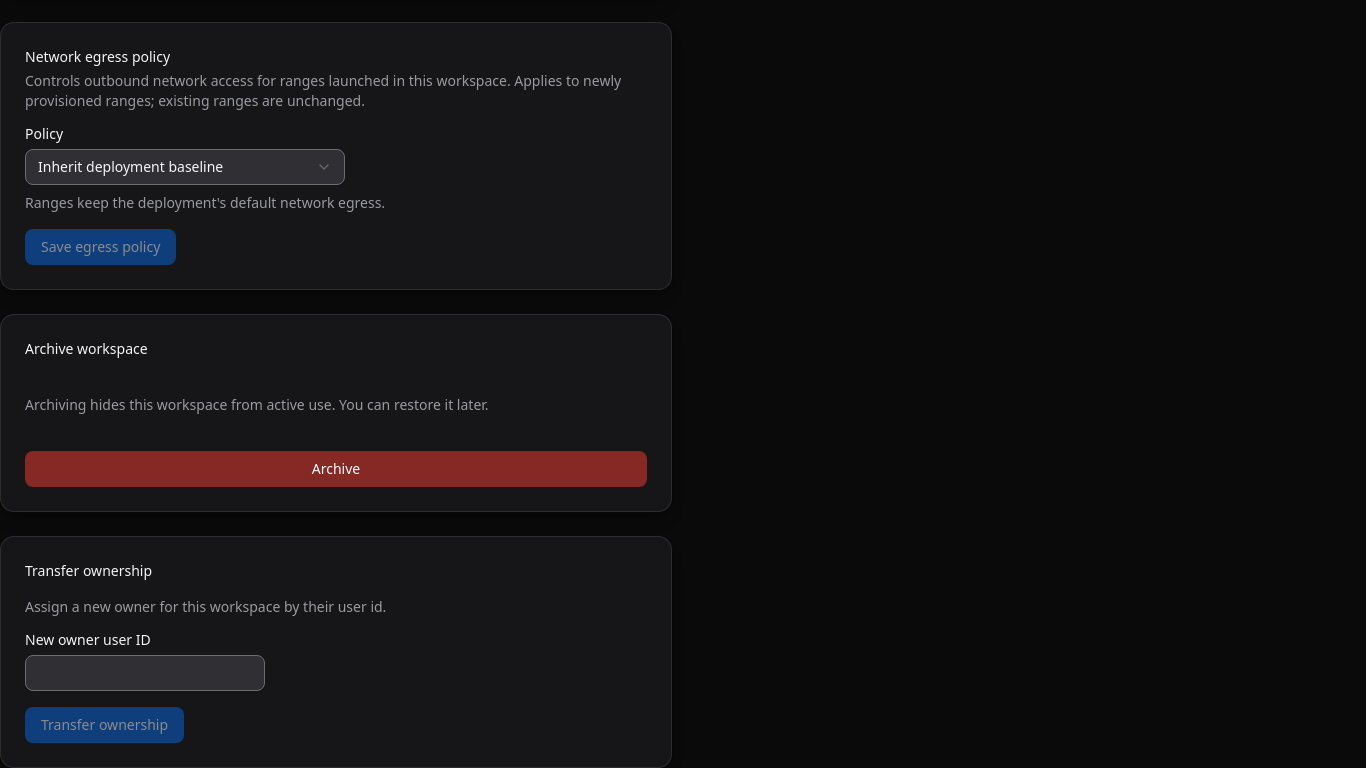
WorkspaceDetailPage › transfers ownership through the API
The width and height of the screenshot is (1366, 768).
(page scrolled)
Type "42" into the number field labelled "New owner user ID" at x=145, y=673, box [25, 655, 265, 691]
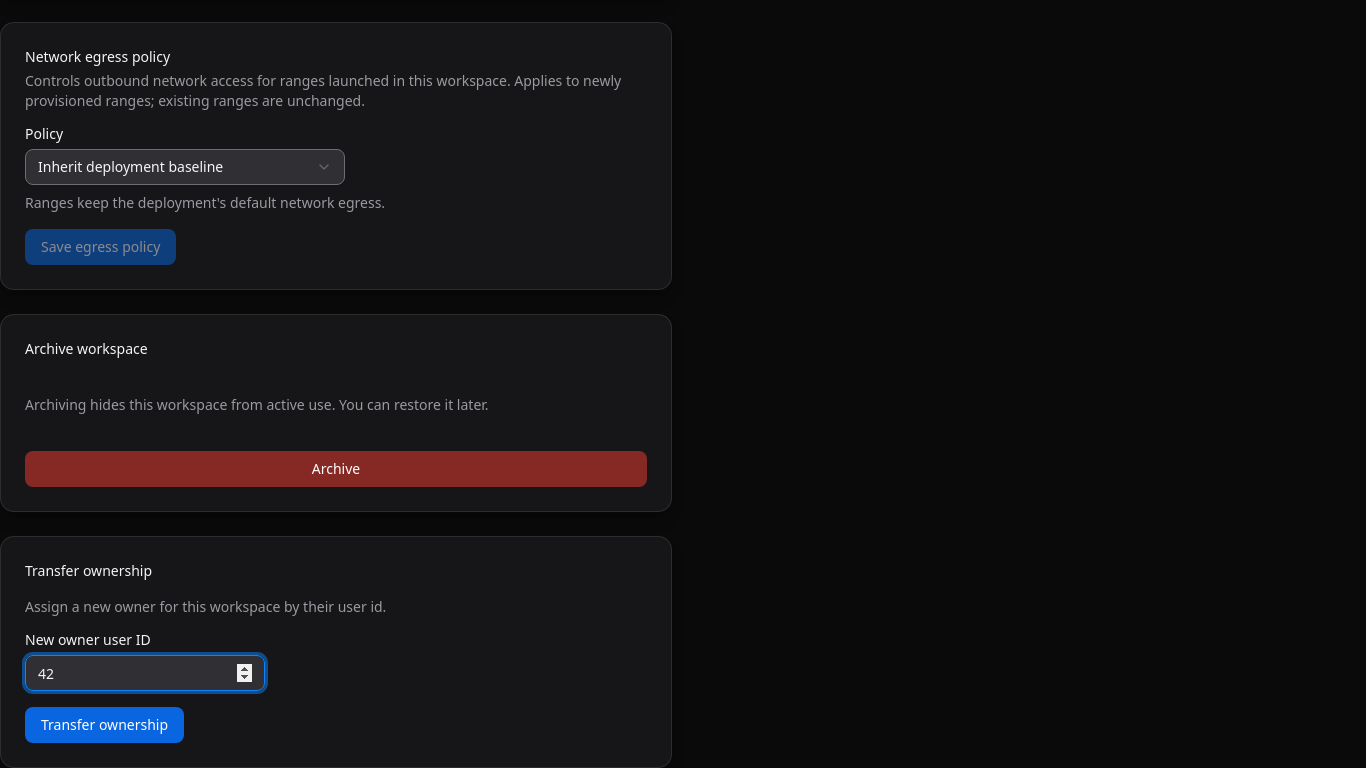
Click the button "Transfer ownership" at x=104, y=725, box [25, 707, 184, 743]
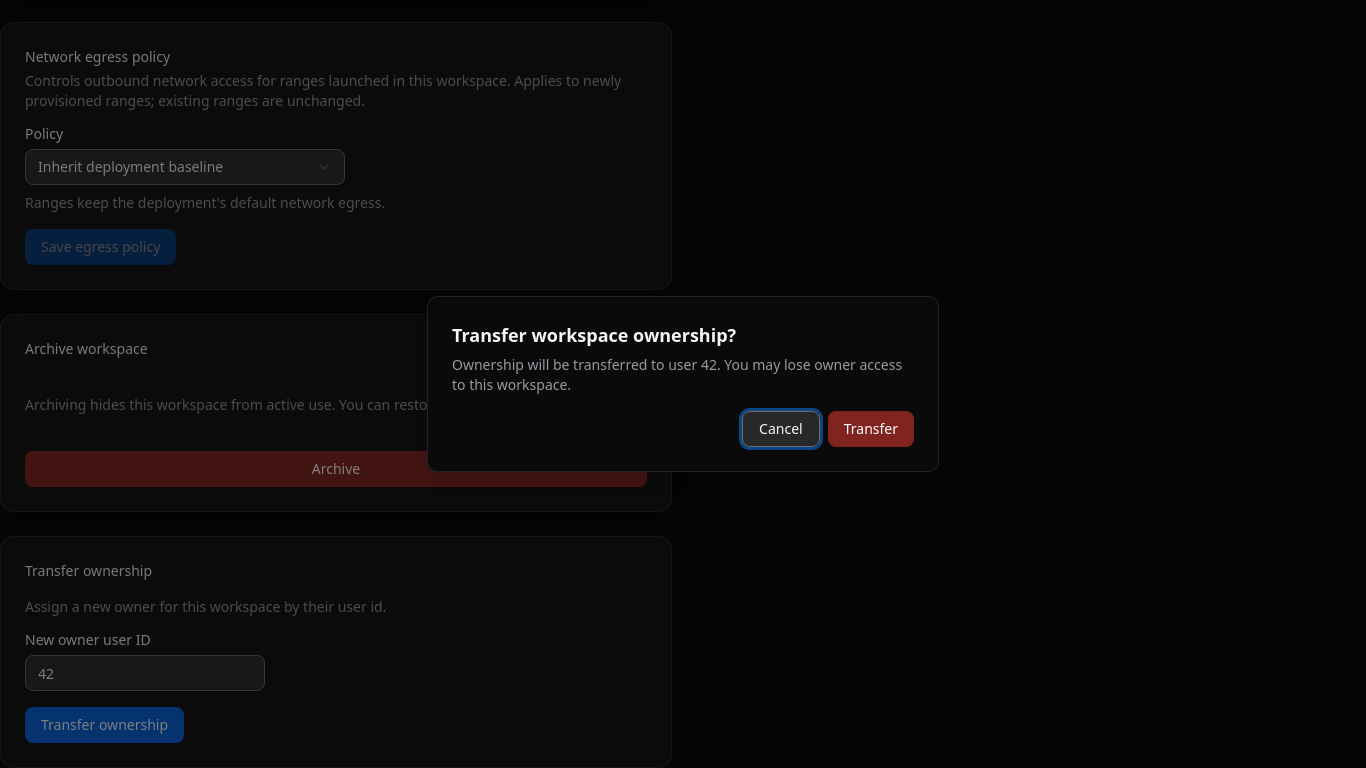
Click the button "Transfer" at x=871, y=429, box [828, 411, 914, 447]
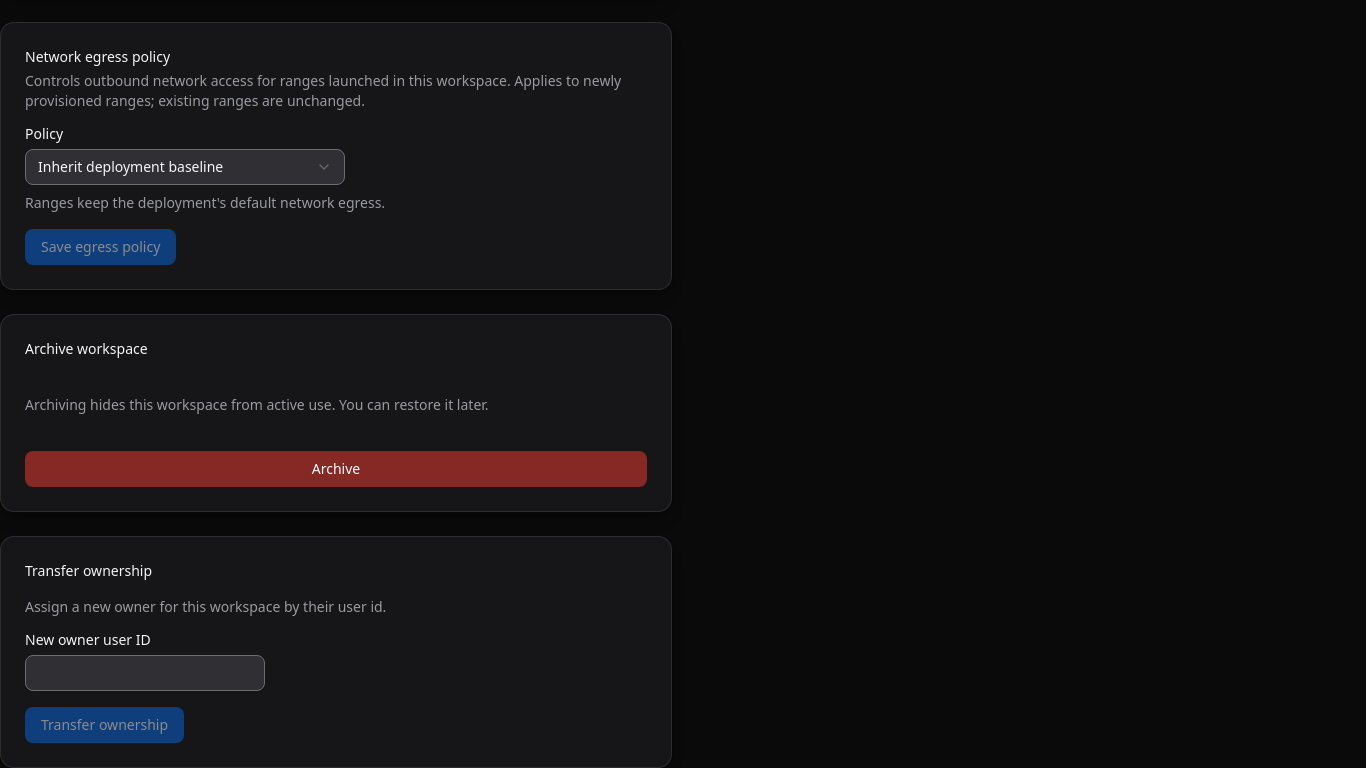
Expected: the dialog is gone
Expected: the number field labelled "New owner user ID" is not empty, [25, 655, 265, 691]
